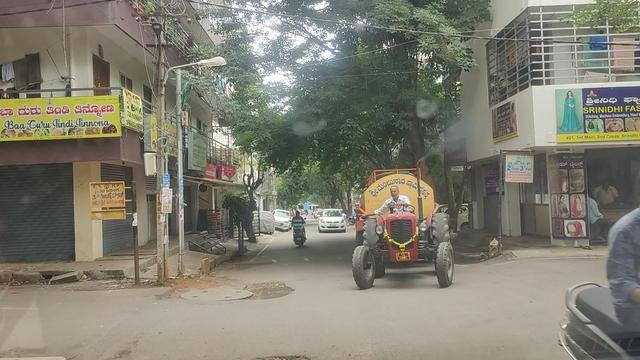HMV: (348, 170, 443, 280)
RoadDamages: (187, 275, 283, 302)
